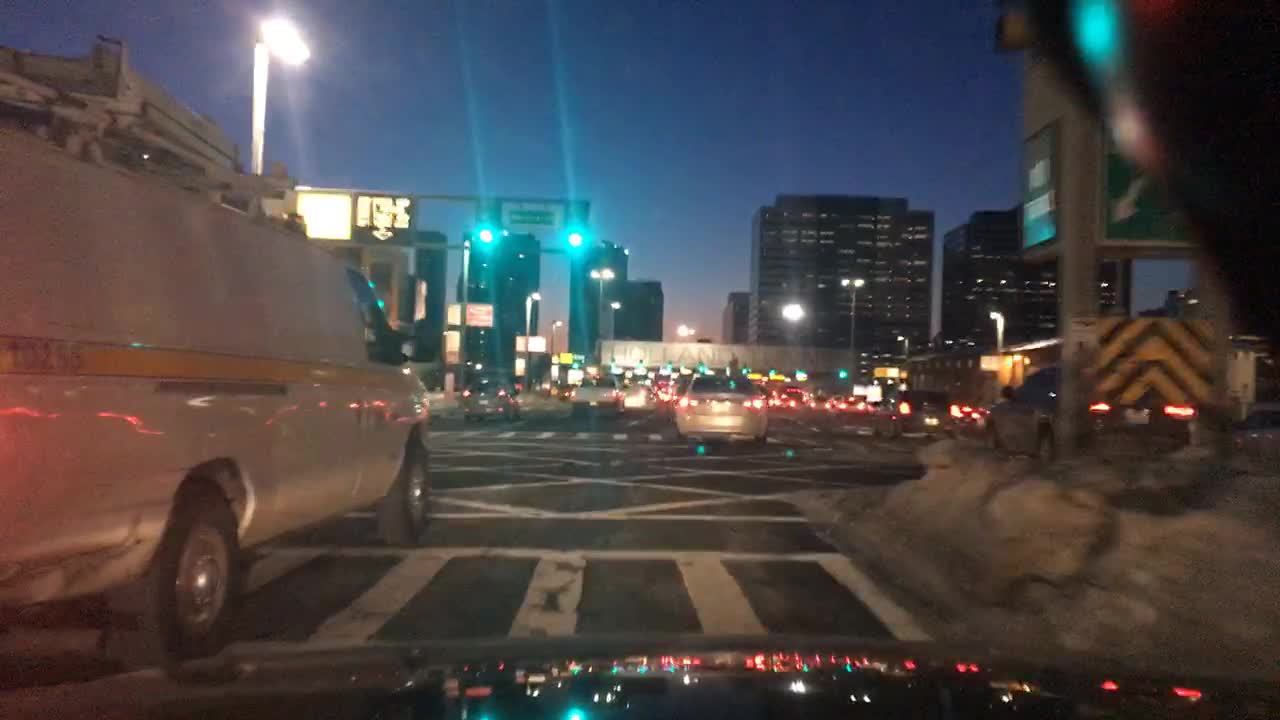car: (983, 360, 1198, 468), (670, 372, 770, 444), (875, 386, 949, 440), (460, 375, 520, 422), (1233, 406, 1279, 466), (569, 372, 621, 421), (620, 380, 661, 412), (950, 402, 990, 427), (801, 393, 833, 412), (838, 394, 868, 413), (657, 381, 676, 404), (774, 393, 802, 408), (561, 383, 574, 398)
traffic light: (995, 0, 1038, 56), (476, 226, 494, 248), (568, 228, 579, 253), (838, 368, 847, 383), (698, 364, 710, 374), (795, 370, 804, 383), (742, 364, 751, 377), (572, 358, 583, 368), (611, 356, 620, 366), (635, 357, 643, 367), (768, 368, 774, 381), (666, 358, 673, 368)
traffic sign: (1104, 151, 1205, 247), (296, 186, 356, 243), (357, 195, 416, 241), (509, 207, 559, 225), (564, 198, 592, 228), (476, 196, 501, 223)
truck: (0, 33, 435, 676)
